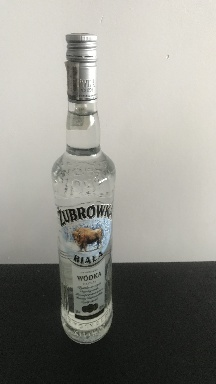butelka: (49, 30, 117, 346)
